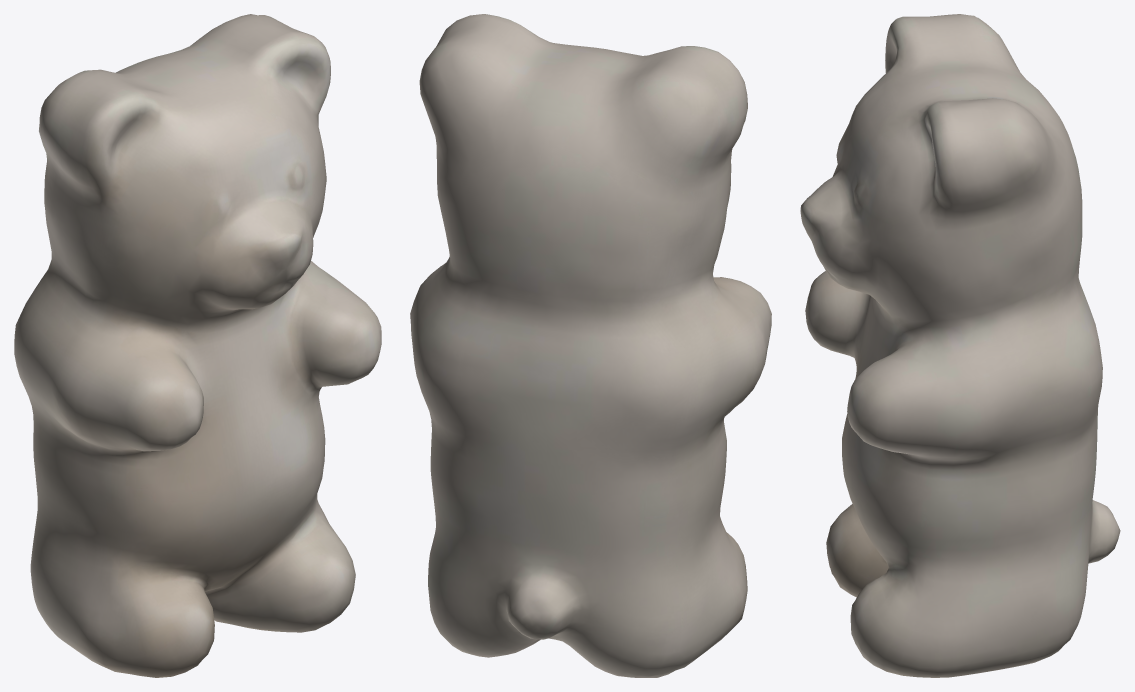
The model's file is gummy_01_bear.glb.
3 views of the same model, side by side, from view 1: azimuth 30°, elevation 25°; view 2: azimuth 150°, elevation 25°; view 3: azimuth 270°, elevation 25° (orthographic). The views are drawn at different scales.
Visible parts, largest first — view 1: tripo_node_841b0c21-4589-4218-8f8d-c70c93b1c257; view 2: tripo_node_841b0c21-4589-4218-8f8d-c70c93b1c257; view 3: tripo_node_841b0c21-4589-4218-8f8d-c70c93b1c257.
Part boxes in pixels (<box>): tripo_node_841b0c21-4589-4218-8f8d-c70c93b1c257: <box>14,14,381,677</box>; tripo_node_841b0c21-4589-4218-8f8d-c70c93b1c257: <box>410,14,771,677</box>; tripo_node_841b0c21-4589-4218-8f8d-c70c93b1c257: <box>800,14,1120,677</box>.
Bounding box in the file's own units: 0.5536 × 0.9984 × 0.5119.
Materials: 1 (1 with a texture image).
